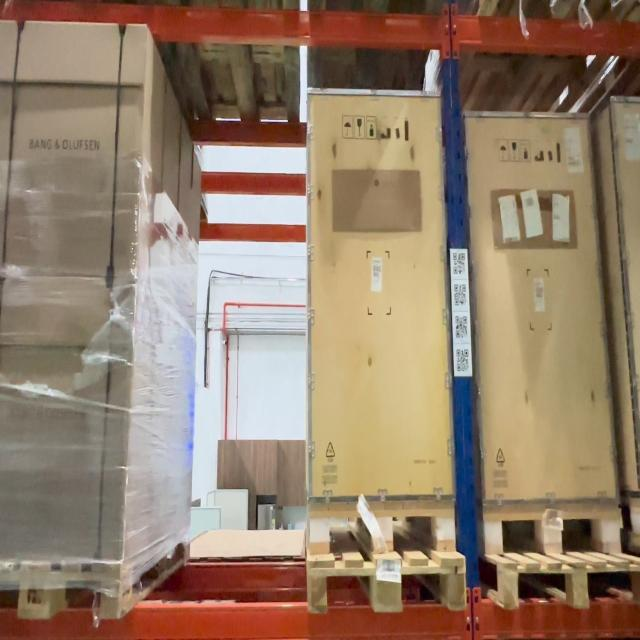box: (306, 91, 458, 507), (463, 115, 623, 507)
